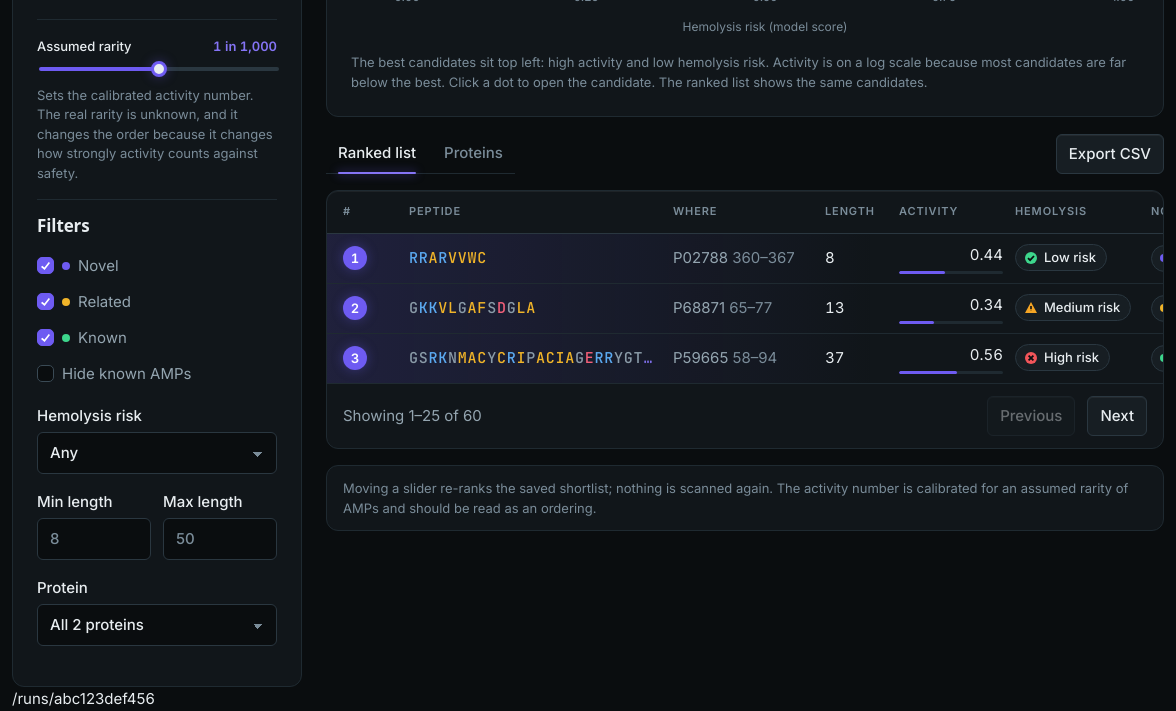
Test case: RunPage › pages through the candidates
(page scrolled)
expect the text "Showing 1–25 of 60" is shown: met, box [343, 404, 482, 428]
expect the button "Previous" is disabled: met, box [987, 396, 1075, 436]
Click the button "Next": x=1117, y=416 [1087, 396, 1147, 436]
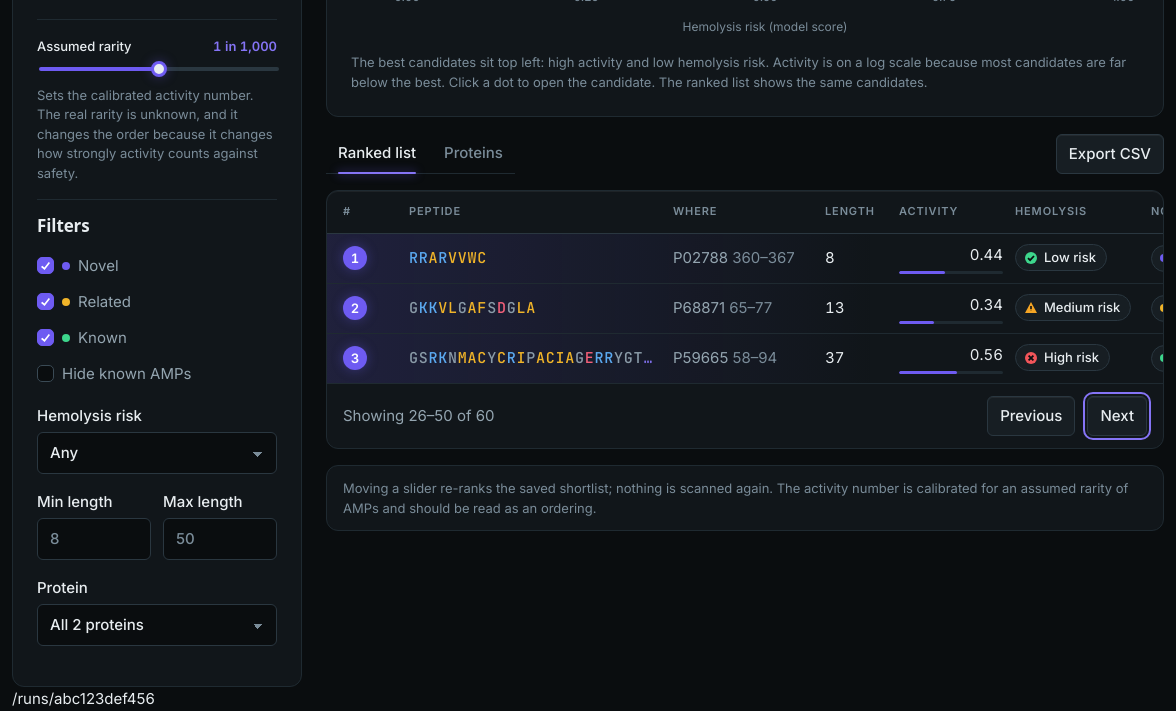
expect the text "Showing 26–50 of 60" is shown: met, box [343, 404, 494, 428]
